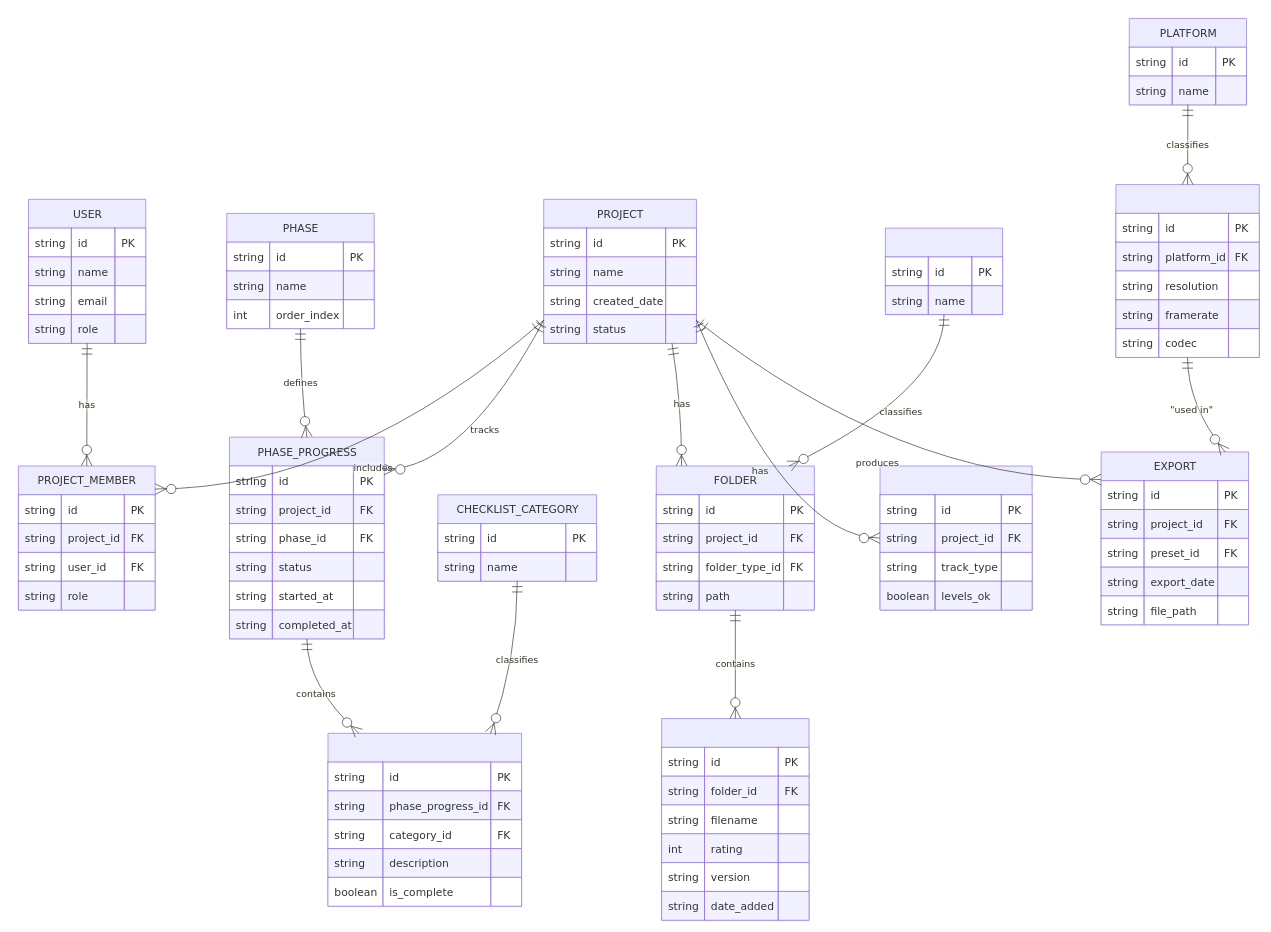
Image size: 1271x932. Some labels were removed from this diagram. The shapes that lost their labels are listed below. From the top down, each one's box as (x1, y1, x2, y2) in pixels, then its label:
(885, 227, 1003, 315): FOLDER_TYPE
(1115, 184, 1259, 357): EXPORT_PRESET
(879, 465, 1032, 610): AUDIO_TRACK
(327, 733, 522, 906): CHECKLIST_ITEM
(661, 718, 809, 920): ASSET
